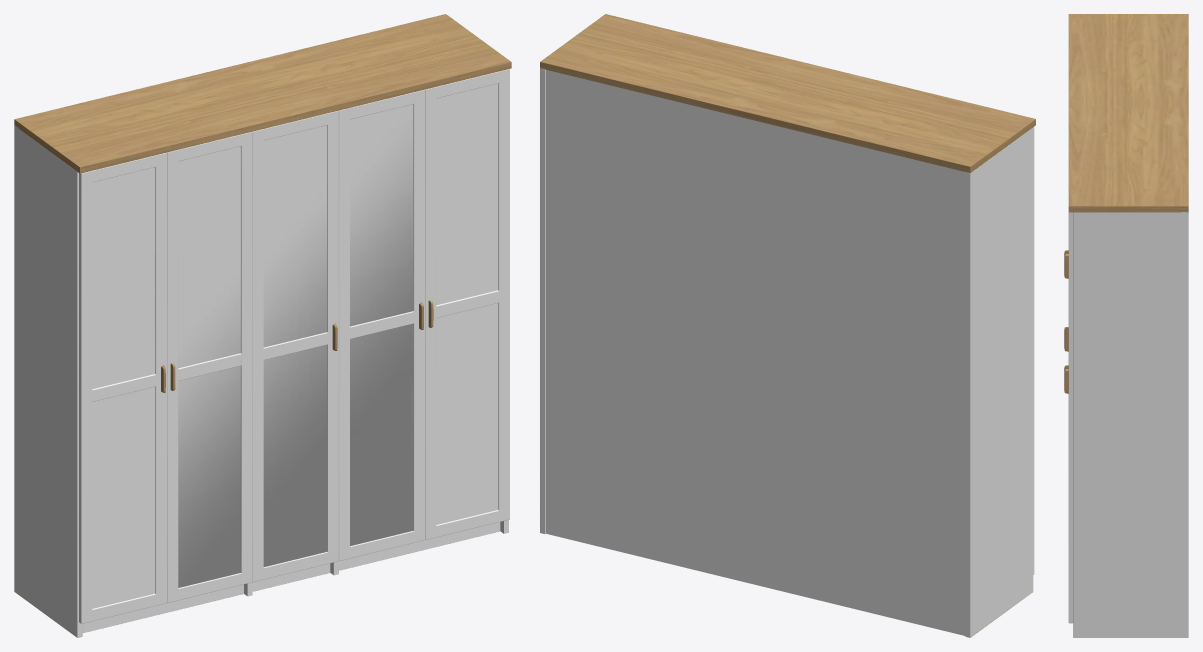
The model's file is abo-B07H8PS4FZ.glb.
3 renders of one model, left to right at view 1: azimuth 30°, elevation 25°; view 2: azimuth 150°, elevation 25°; view 3: azimuth 270°, elevation 25°, orthographic. The views are drawn at different scales.
Size of the model in its own units: 2.16 by 2.26 by 0.59.
1 material, 1 textured.
